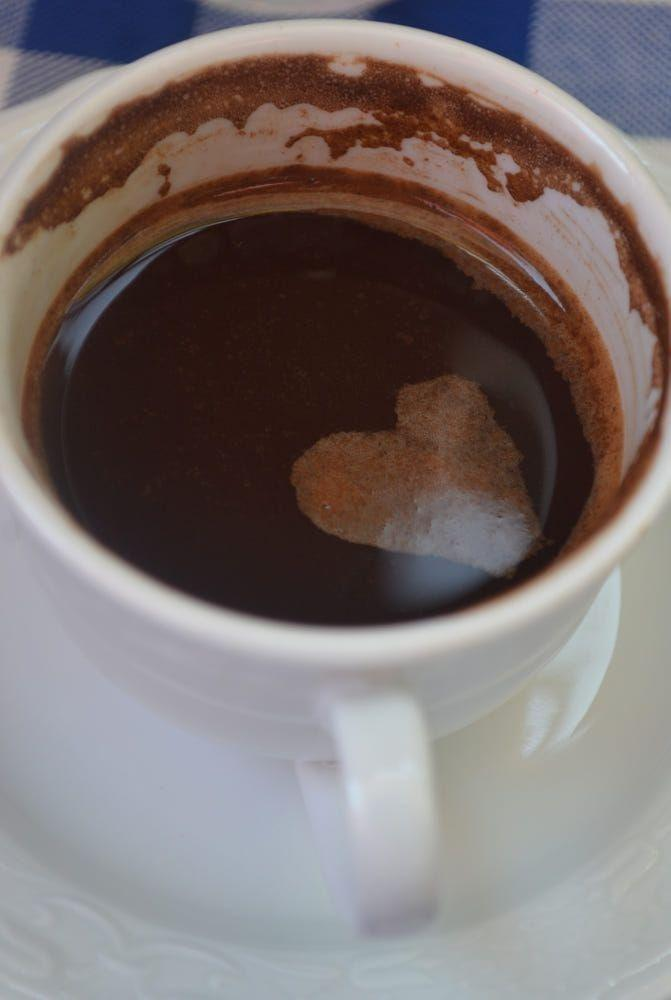cup-handle: (1, 9, 669, 951)
